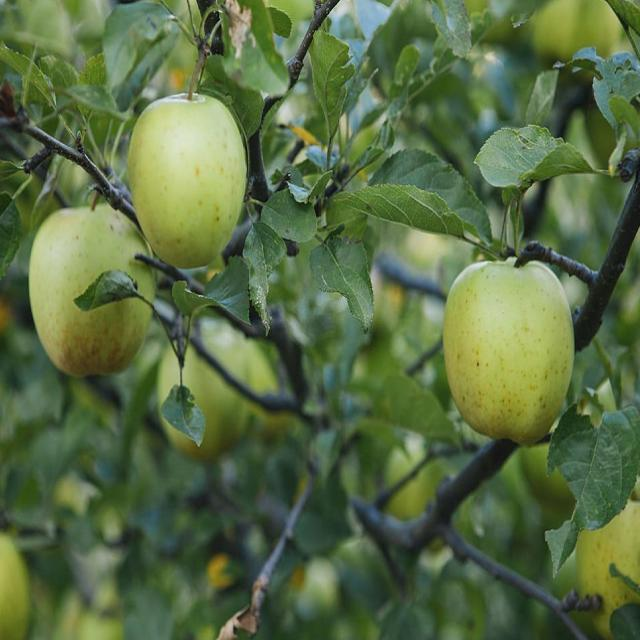Green Apple: (454, 270, 576, 443), (38, 202, 152, 381), (132, 89, 248, 264), (160, 321, 246, 454), (594, 476, 640, 632), (1, 511, 30, 640)
